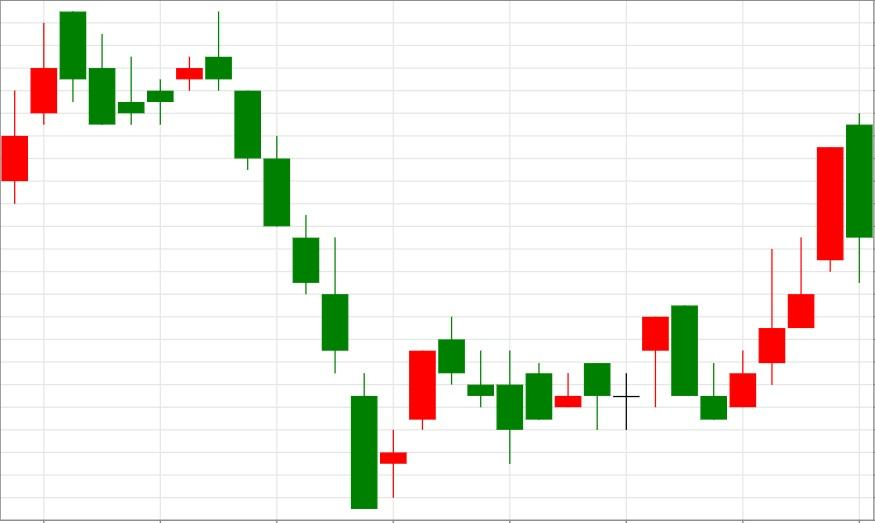three_black_crows_fall: (88, 12, 291, 227)
three_white_soldiers_rise: (670, 237, 816, 420)
